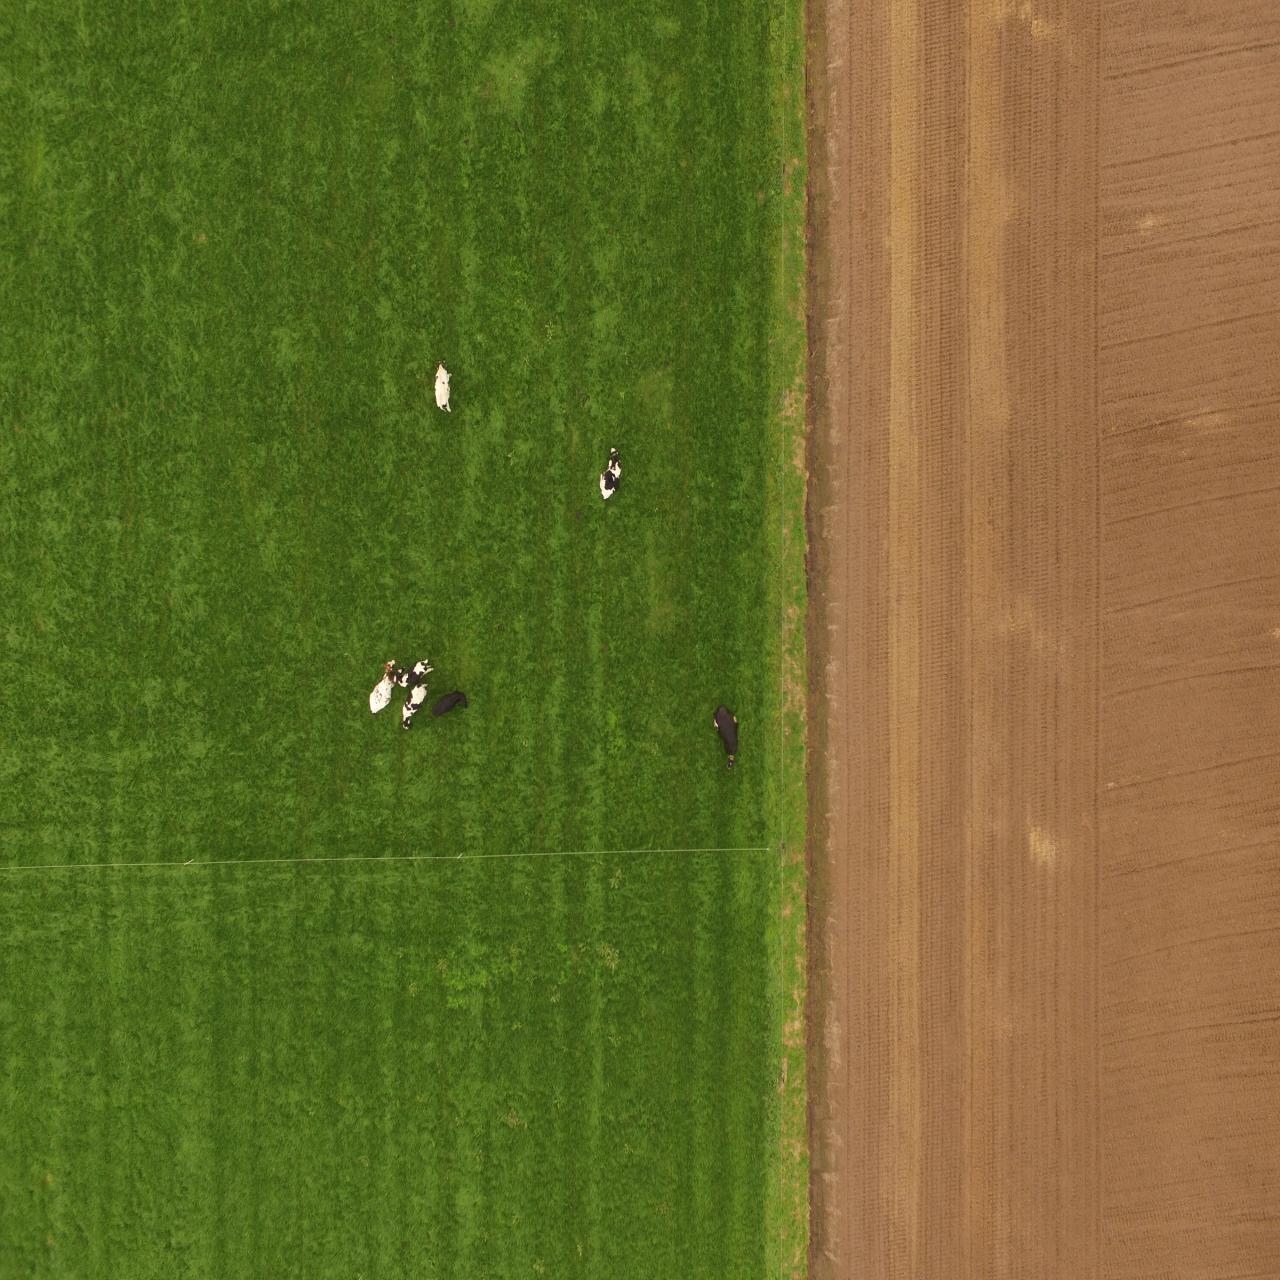cow: (713, 704, 740, 769), (365, 656, 394, 713), (599, 445, 622, 504), (393, 654, 436, 683), (403, 682, 427, 736), (431, 688, 468, 722), (431, 355, 451, 414)
